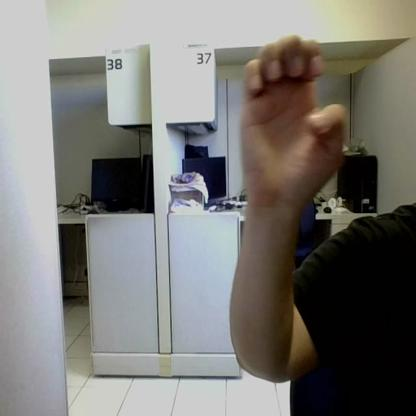E: (240, 36, 344, 197)
